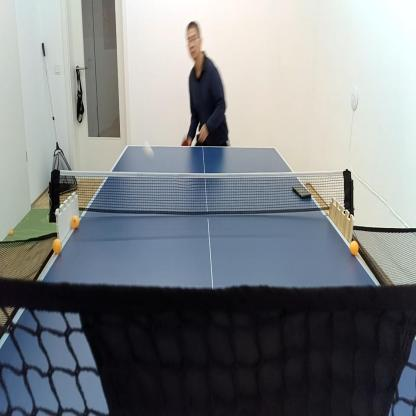Ball: (145, 142, 155, 158), (54, 239, 62, 252), (350, 241, 358, 254), (72, 216, 79, 226), (9, 230, 14, 235)
